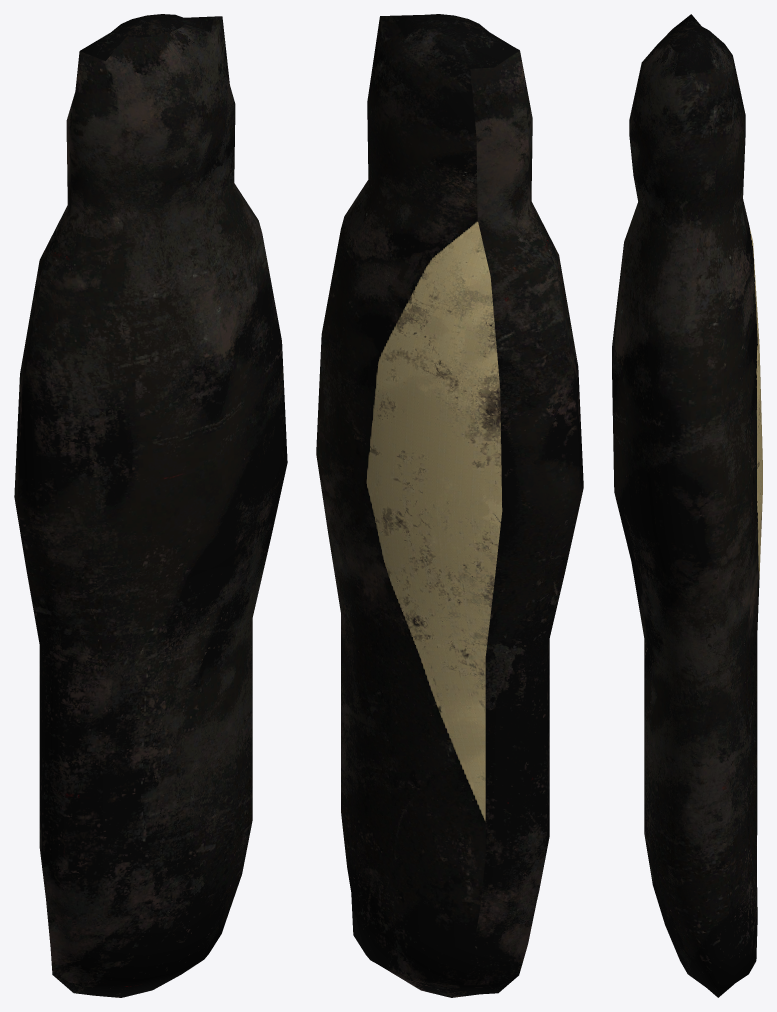
The model's file is BodyBag.FBX.
3 views of the same model, side by side, from view 1: azimuth 30°, elevation 25°; view 2: azimuth 150°, elevation 25°; view 3: azimuth 270°, elevation 25° (orthographic). The views are drawn at different scales.
Parts seen in each view (by area): view 1: Cadaver; view 2: Cadaver; view 3: Cadaver.
Boxes of the visible parts, x1,y1,x2,y2 form: Cadaver: [14, 14, 287, 997]; Cadaver: [316, 14, 583, 997]; Cadaver: [612, 14, 762, 997].
Bounding box in the file's own units: 48.6 × 172 × 24.71.
1 material, 1 textured.
